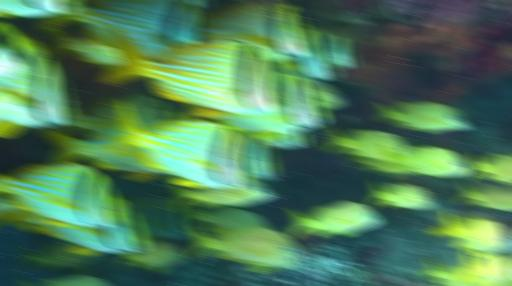Fish: (100, 30, 283, 116), (108, 103, 251, 187), (39, 0, 206, 57), (40, 118, 167, 180), (212, 75, 327, 139), (0, 165, 122, 225), (23, 199, 148, 254), (205, 1, 312, 61), (0, 43, 74, 128), (186, 226, 301, 266), (269, 28, 338, 81), (427, 212, 508, 256), (289, 202, 380, 238), (170, 178, 271, 210), (46, 29, 123, 65), (374, 102, 469, 131), (123, 197, 190, 238), (324, 128, 409, 160), (383, 147, 468, 177), (184, 203, 269, 231), (19, 241, 100, 268), (116, 241, 185, 272), (58, 100, 123, 132), (233, 131, 276, 178), (456, 251, 511, 285), (368, 181, 433, 209), (312, 28, 357, 68), (455, 181, 511, 211), (465, 152, 511, 183), (0, 32, 35, 71), (0, 32, 32, 71), (0, 0, 77, 16), (344, 158, 407, 177), (421, 259, 466, 285), (307, 81, 344, 108), (262, 130, 309, 148), (0, 207, 45, 225), (248, 259, 297, 272), (47, 276, 109, 285), (197, 0, 209, 6), (508, 260, 511, 266)
